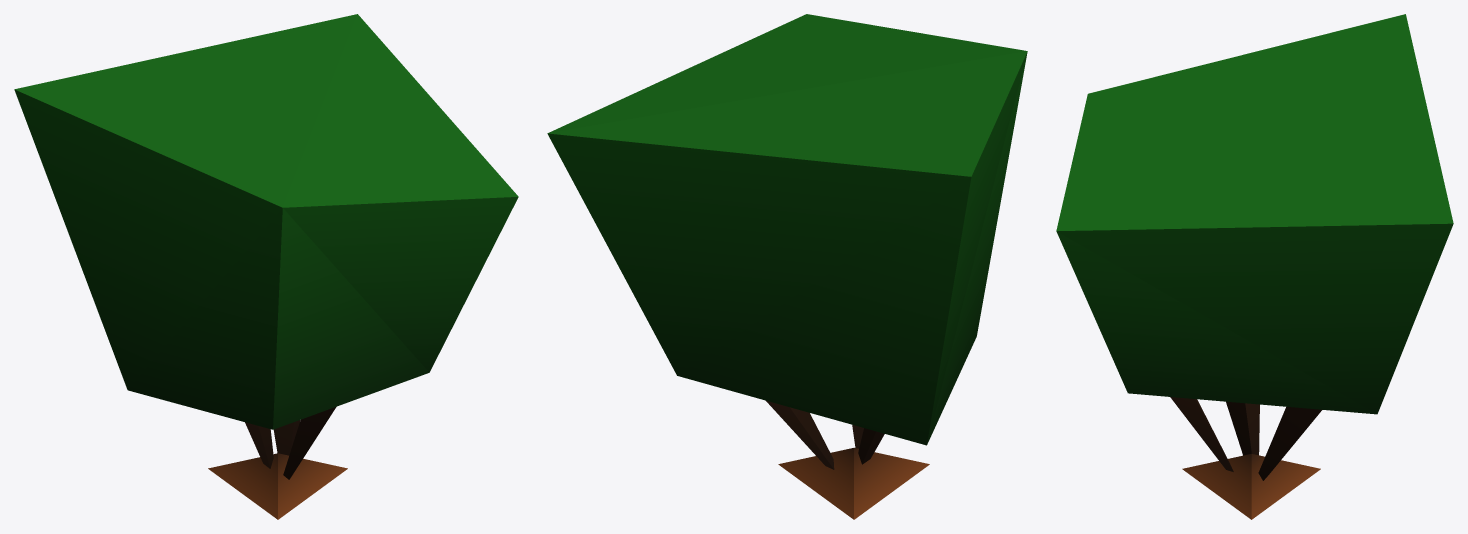
The model's file is c_hedge_square_aa.fbx.
3 views of the same model, side by side, from view 1: azimuth 30°, elevation 25°; view 2: azimuth 150°, elevation 25°; view 3: azimuth 270°, elevation 25° (orthographic). The views are drawn at different scales.
Visible parts, largest first — view 1: c_hedge_square_aa; view 2: c_hedge_square_aa; view 3: c_hedge_square_aa.
Boxes of the visible parts, x1,y1,x2,y2 form: c_hedge_square_aa: [14, 14, 518, 519]; c_hedge_square_aa: [547, 14, 1027, 519]; c_hedge_square_aa: [1056, 14, 1453, 519].
Size of the model in its own units: 1.56 by 1.63 by 1.48.
